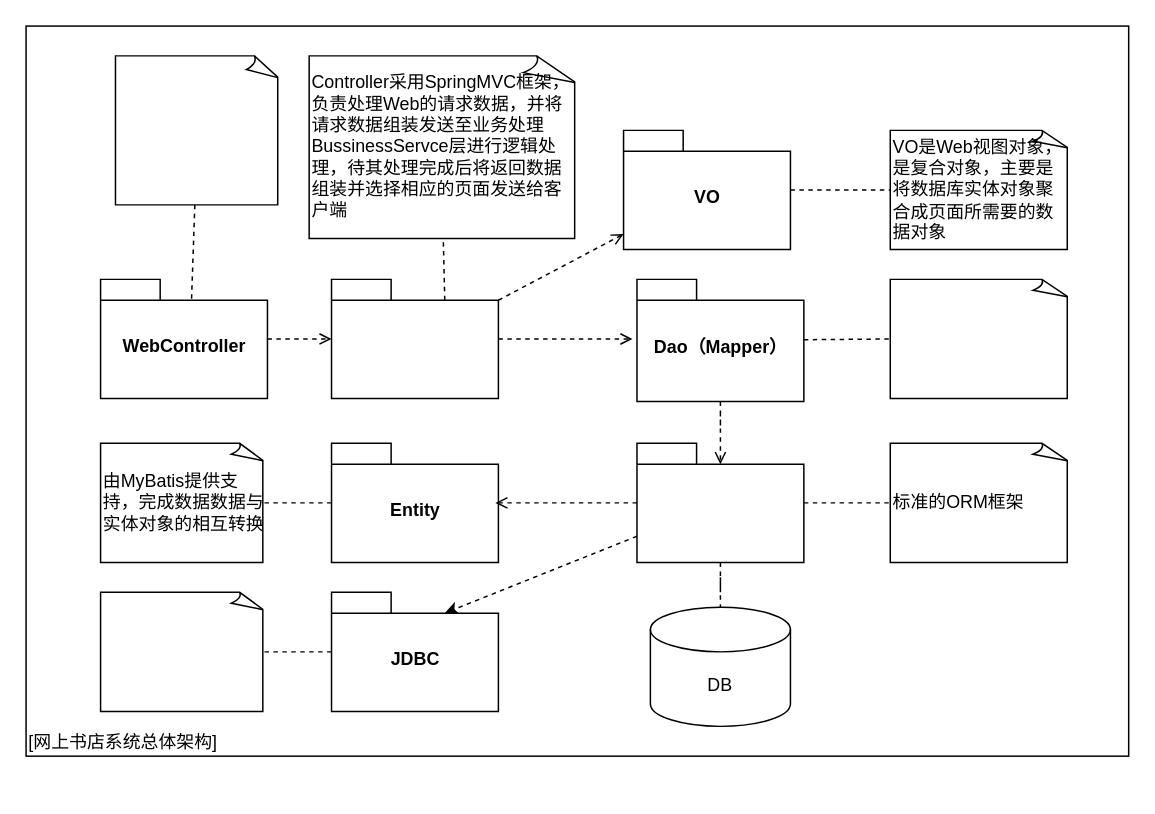
This 1155x814 diagram has some shape labels left out. The shapes that lost their labels are listed below. From the top down, each one's box as (x1, y1, x2, y2) in pixels, then its label:
(114, 54, 279, 205): Web采用thymeleaf框架，主负责展示数据和界面给用户
(330, 278, 498, 399): BusinessService
(889, 278, 1069, 399): 负责数据的数据库操作，在此完成调用MyBatis完成数据库的各种操作
(635, 442, 804, 562): MyBatis
(99, 591, 264, 711): 标准JDBC由MyBatis提供支持
